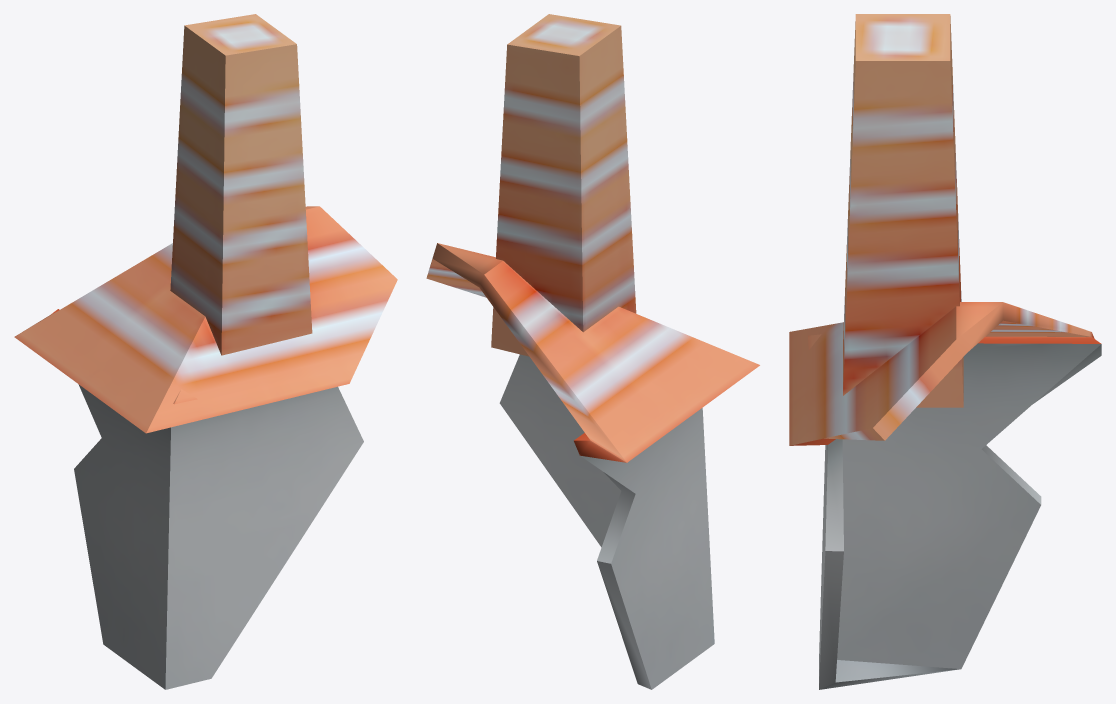
File: B3Broke01.FBX
3 views of the same model, side by side, from view 1: azimuth 30°, elevation 25°; view 2: azimuth 150°, elevation 25°; view 3: azimuth 270°, elevation 25° (orthographic). The views are drawn at different scales.
Visible parts, largest first — view 1: B3Broke01; view 2: B3Broke01; view 3: B3Broke01.
Boxes of the visible parts, box(x1,y1,x2,y2) form: B3Broke01: box(14, 14, 397, 689); B3Broke01: box(426, 14, 759, 689); B3Broke01: box(789, 14, 1101, 689).
Bounding box in the file's own units: 28.32 × 56.68 × 23.16.
